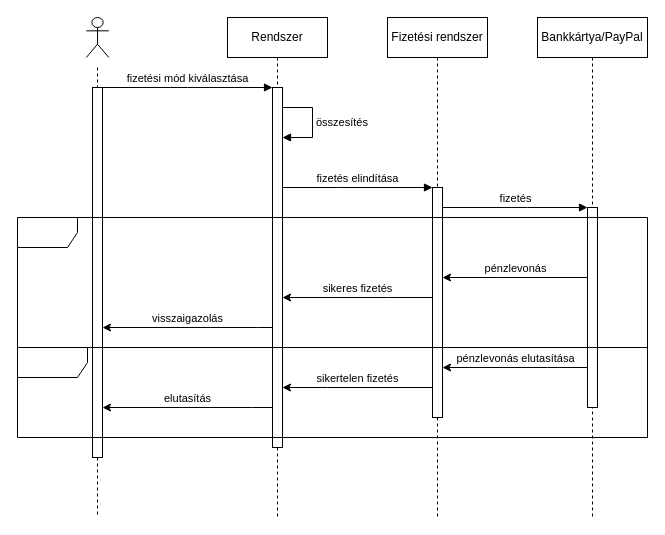
The diagram is 665 pixels wide and 535 high, and some of its shapes have lost their labels. Here are the shapes that lost their labels. From the top down, the box of each, then its label:
(16, 216, 648, 348): érvényes adatok
(16, 346, 648, 438): érévnytelen adatok
